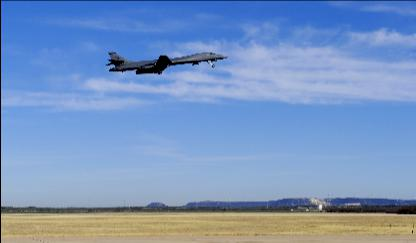AV8B: (104, 50, 228, 74)
